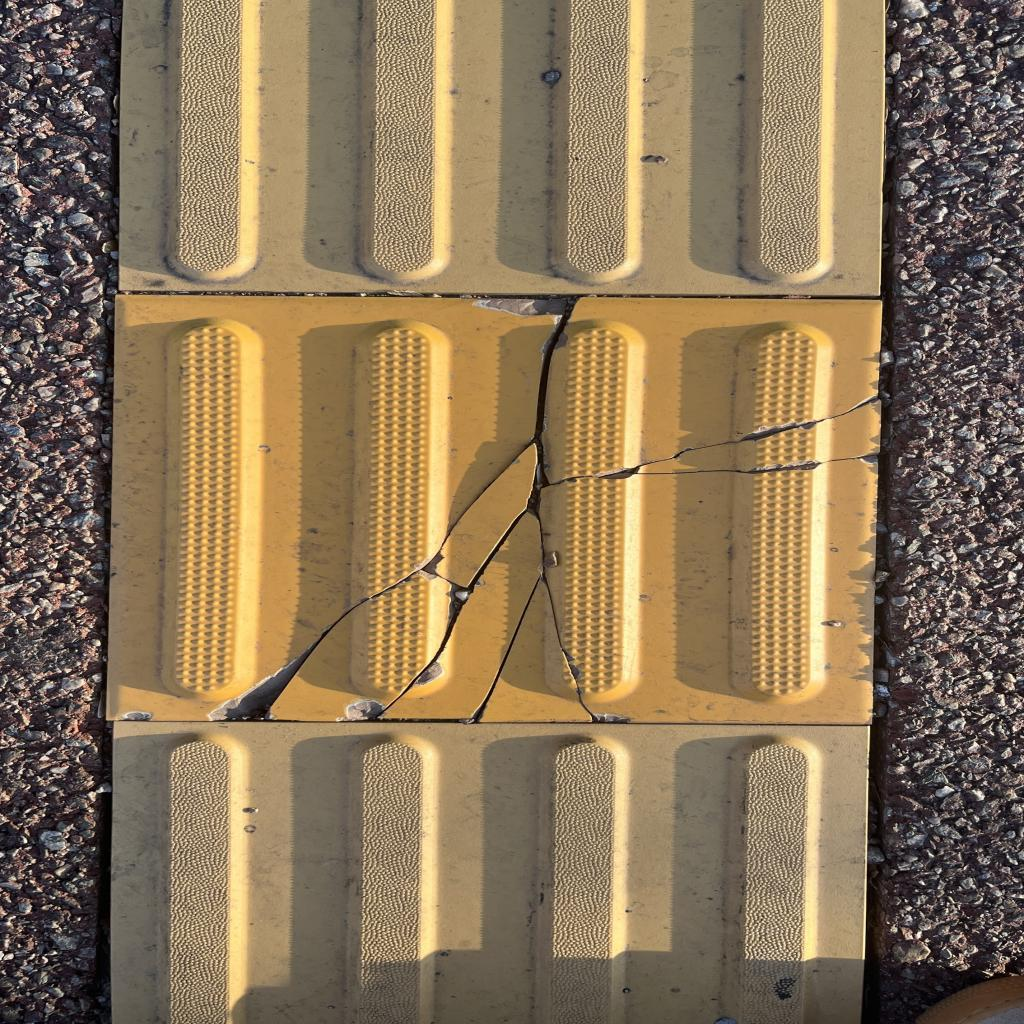Straight block broken: (113, 297, 880, 722)
